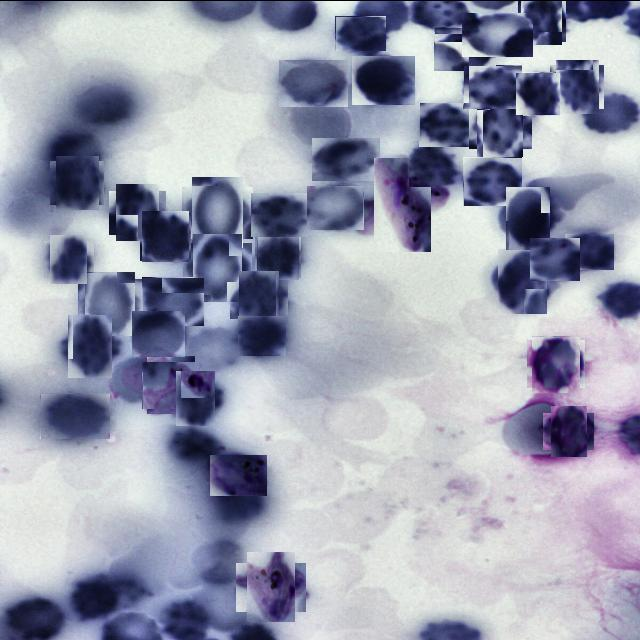red blood cell: (186, 181, 248, 243), (188, 237, 247, 296), (494, 252, 552, 310), (278, 58, 348, 106), (82, 274, 139, 332), (40, 392, 110, 438), (351, 54, 415, 104), (462, 12, 533, 56), (142, 276, 204, 325), (473, 98, 528, 152), (312, 137, 380, 180), (500, 190, 554, 244), (63, 318, 117, 372), (463, 156, 522, 205), (530, 336, 583, 389), (434, 26, 496, 70), (306, 184, 364, 229), (463, 64, 522, 108), (112, 187, 163, 237), (251, 192, 308, 236), (140, 211, 190, 261), (132, 310, 185, 356), (553, 61, 602, 110), (234, 274, 284, 322), (52, 158, 102, 206), (420, 102, 474, 146), (410, 140, 460, 187), (172, 374, 220, 422), (530, 237, 580, 280), (256, 234, 300, 278), (516, 71, 560, 115), (546, 408, 590, 452), (238, 315, 286, 355), (519, 0, 564, 42), (48, 237, 90, 280), (335, 15, 386, 50), (565, 233, 614, 269)
trophozoite: (364, 166, 440, 242), (241, 556, 301, 616), (144, 358, 198, 410), (209, 453, 267, 495)
